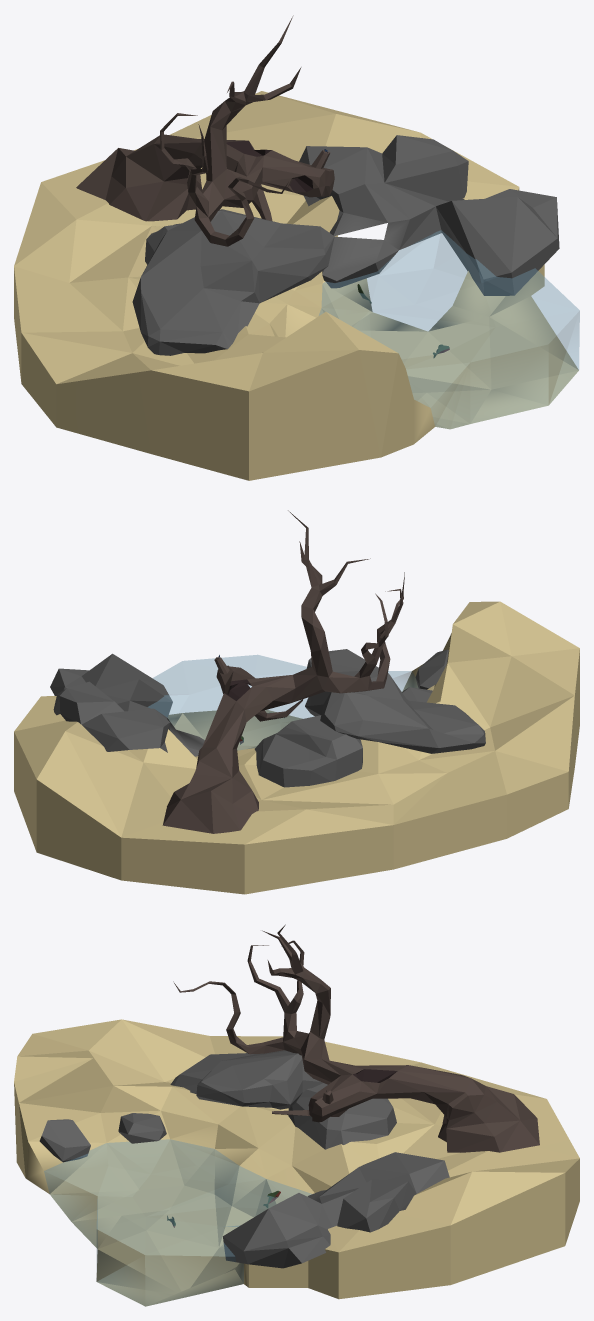
File: testscene.gltf
3 renders of one model, top to bottom at view 1: azimuth 30°, elevation 25°; view 2: azimuth 150°, elevation 25°; view 3: azimuth 270°, elevation 25°, orthographic. The views are drawn at different scales.
Parts seen in each view (by area): view 1: Plane.024, Cube.003, Cube.005; view 2: Plane.024, Cube.003, Cube.005; view 3: Plane.024, Cube.003, Cube.005.
Part boxes in pixels (bbox=[...]): Plane.024: bbox=[14, 91, 579, 480]; Cube.003: bbox=[132, 135, 559, 355]; Cube.005: bbox=[76, 15, 334, 246]; Plane.024: bbox=[14, 601, 579, 894]; Cube.003: bbox=[50, 649, 485, 787]; Cube.005: bbox=[162, 510, 404, 833]; Plane.024: bbox=[14, 1019, 579, 1306]; Cube.003: bbox=[39, 1050, 449, 1268]; Cube.005: bbox=[173, 924, 539, 1152].
Size of what is drawn, in the model's own units: 14.11 by 8.99 by 14.63.
